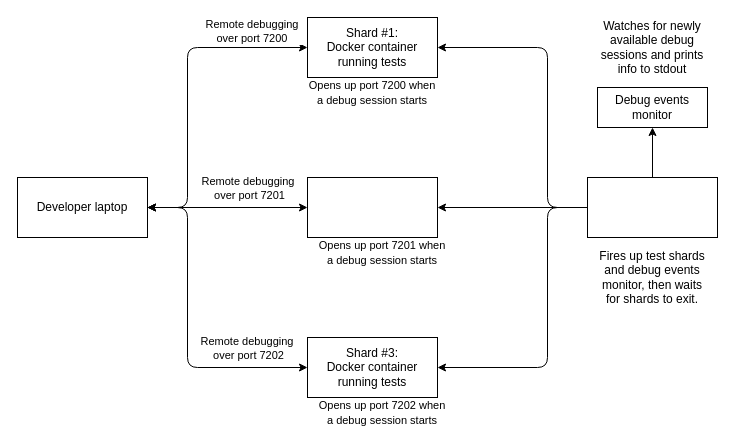
This 735x445 diagram has some shape labels left out. Each missing label, with the box of its shape:
Main execution script (test run coordinator): (586, 176, 718, 238)
Shard #2: Docker container running tests: (306, 176, 438, 238)
